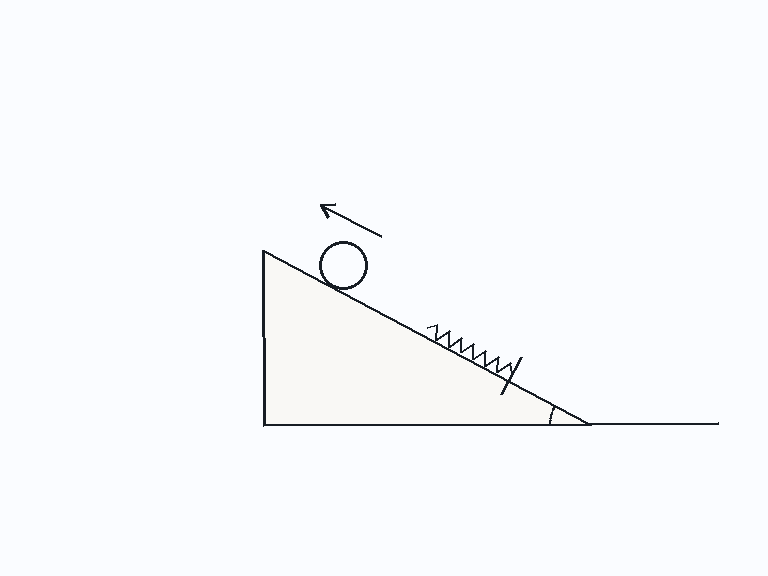ball: (317, 239, 369, 291)
ramp: (261, 248, 592, 426)
spring: (426, 323, 515, 375)
